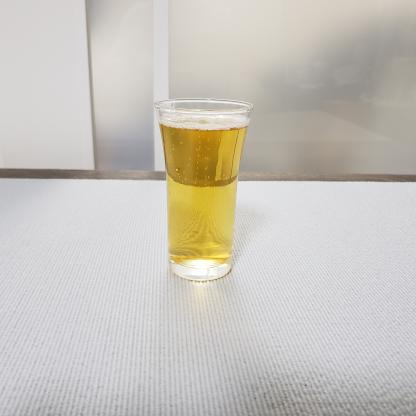glass: (146, 88, 267, 297)
